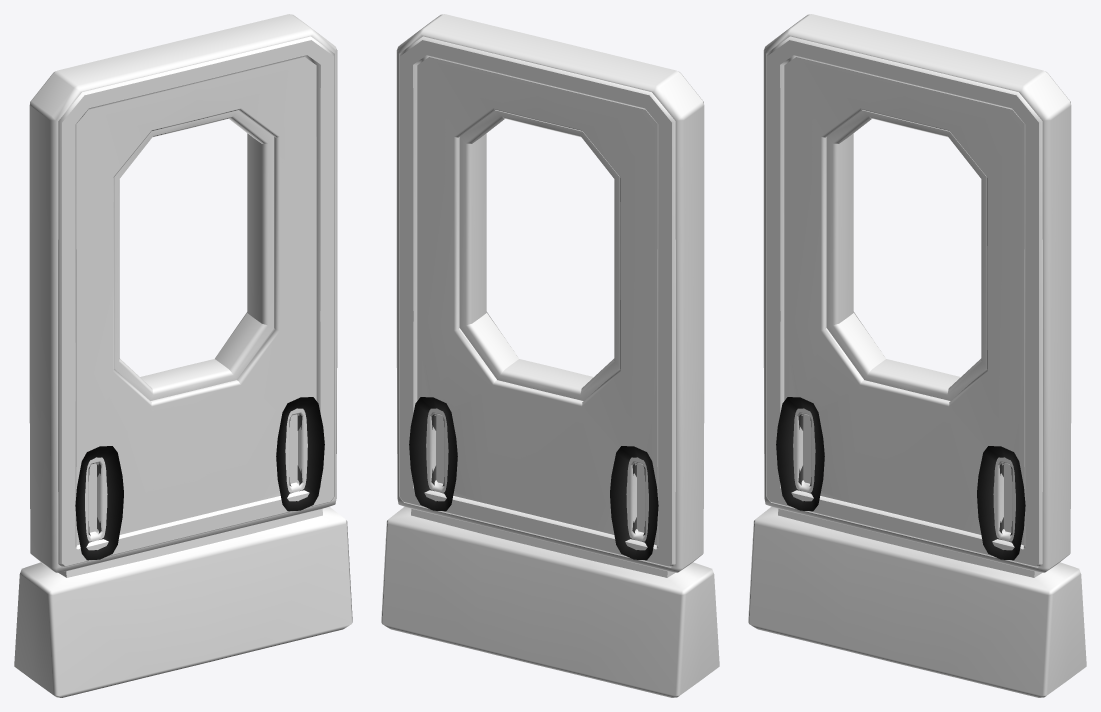
The model's file is HatCoBarrierWallWindow.glb.
The picture shows the model from 3 angles, left to right: view 1: azimuth 30°, elevation 25°; view 2: azimuth 150°, elevation 25°; view 3: azimuth 330°, elevation 25°; orthographic projection.
Visible parts, largest first — view 1: BarrierHologram, HatCoBarrierGlow; view 2: BarrierHologram, HatCoBarrierGlow; view 3: BarrierHologram, HatCoBarrierGlow.
Part boxes in pixels (x1,y1,x2,y2): BarrierHologram: (14, 14, 352, 697); HatCoBarrierGlow: (75, 397, 324, 560); BarrierHologram: (381, 14, 719, 697); HatCoBarrierGlow: (409, 397, 658, 560); BarrierHologram: (748, 14, 1086, 697); HatCoBarrierGlow: (776, 397, 1025, 560).
Bounding box in the file's own units: 1.05 × 2.01 × 0.266.
4 materials, 3 textured.
